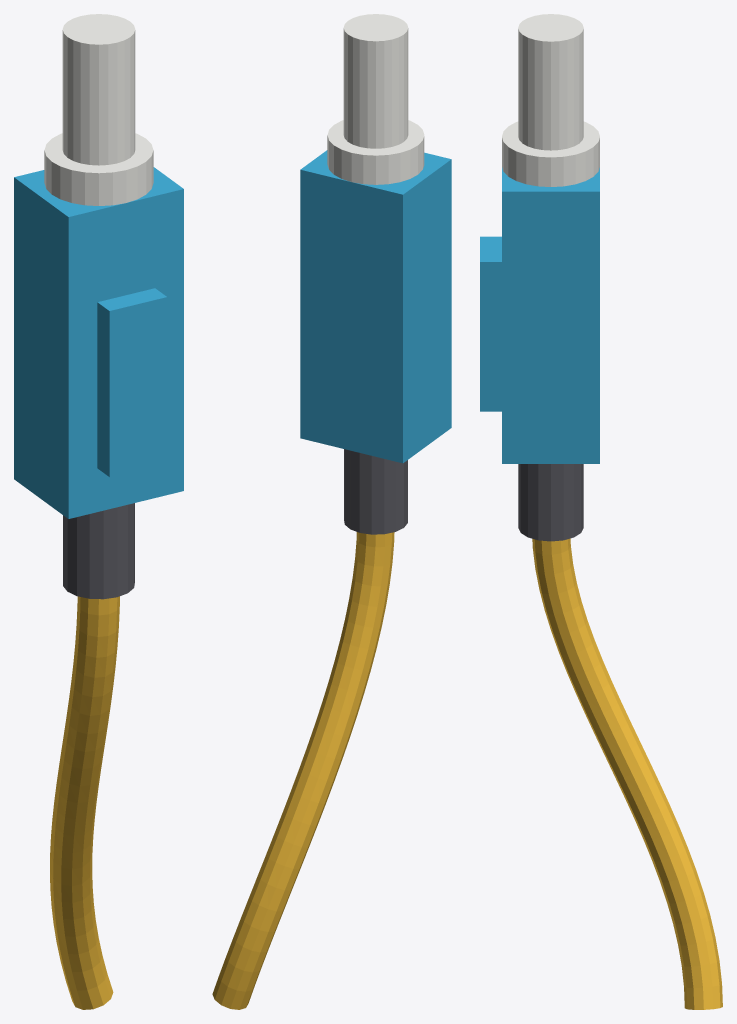
File: fiber_connector.glb
The picture shows the model from 3 angles, left to right: view 1: azimuth 30°, elevation 25°; view 2: azimuth 150°, elevation 25°; view 3: azimuth 270°, elevation 25°; orthographic projection. The views are drawn at different scales.
Visible parts, largest first — view 1: body, cable, latch, ferrule, boot, collar; view 2: body, cable, ferrule, boot, collar; view 3: body, cable, ferrule, boot, collar, latch.
Part boxes in pixels (x1=…): body: x1=14, y1=167, x2=183, y2=518; cable: x1=50, y1=596, x2=119, y2=1009; latch: x1=97, y1=288, x2=167, y2=477; ferrule: x1=62, y1=14, x2=135, y2=165; boot: x1=63, y1=503, x2=134, y2=599; collar: x1=44, y1=133, x2=153, y2=205; body: x1=300, y1=150, x2=451, y2=463; cable: x1=212, y1=532, x2=394, y2=1009; ferrule: x1=343, y1=14, x2=408, y2=148; boot: x1=344, y1=449, x2=407, y2=534; collar: x1=327, y1=120, x2=424, y2=184; body: x1=502, y1=167, x2=599, y2=463; cable: x1=532, y1=538, x2=722, y2=1009; ferrule: x1=518, y1=14, x2=583, y2=150; boot: x1=518, y1=464, x2=583, y2=541; collar: x1=502, y1=121, x2=599, y2=186; latch: x1=480, y1=236, x2=501, y2=411.
Bounding box in the file's own units: 0.0293 × 0.1921 × 0.0445.
